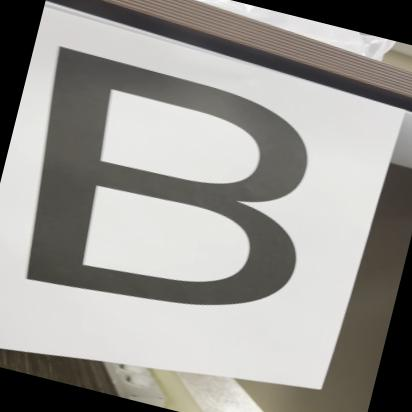seat: (0, 35, 360, 351)
